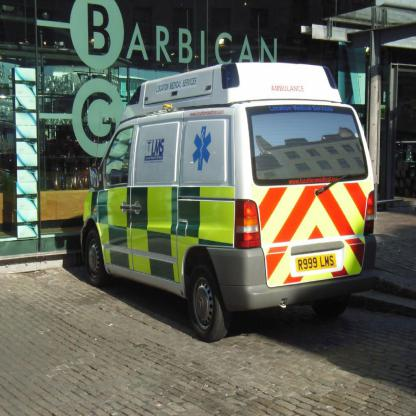Ambulance: (77, 63, 379, 343)
